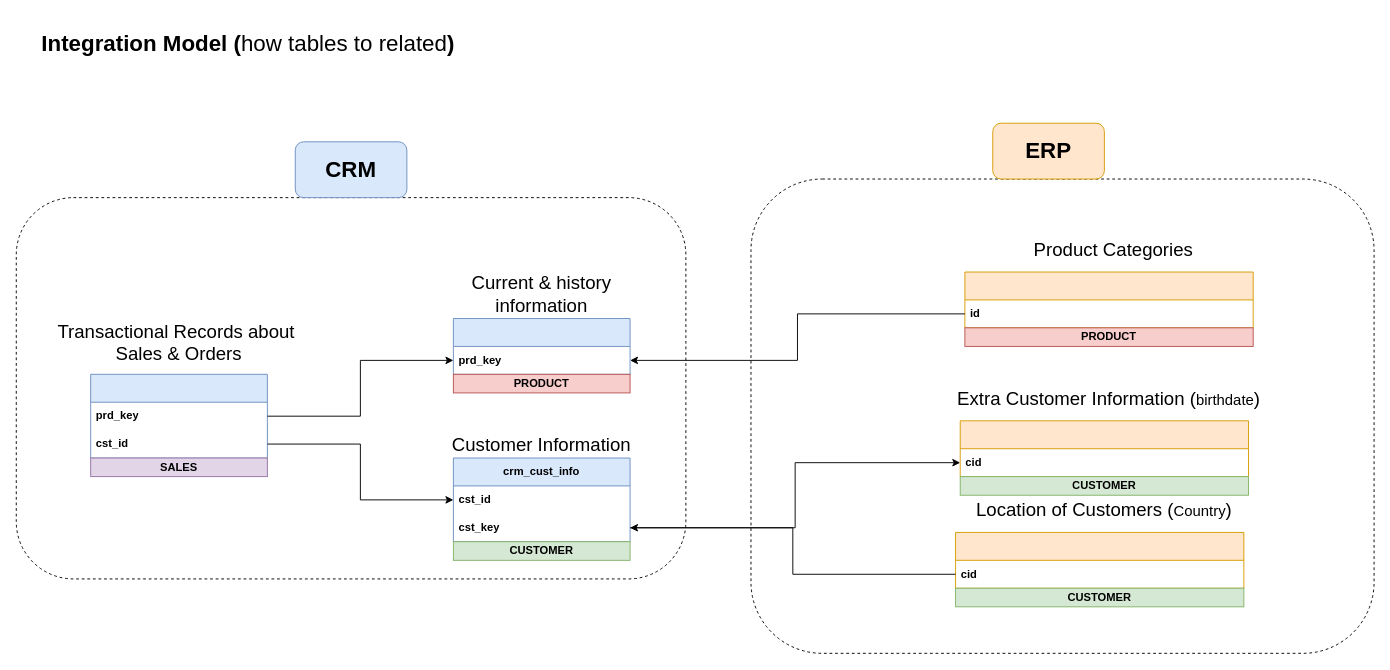
Some shapes in this 1390 by 670 pixel diagram are drawn without their labels. The shapes that lost their labels are listed below. From the top down, each one's box as (x1, y1, x2, y2) in pixels, then its label:
(964, 271, 1253, 328): erp_px_cat_g1v2
(452, 318, 630, 374): crm_prd_info
(90, 373, 267, 458): crm_sales_details
(959, 420, 1249, 477): erp_cust_az12
(955, 531, 1244, 588): erp_loc_a101
